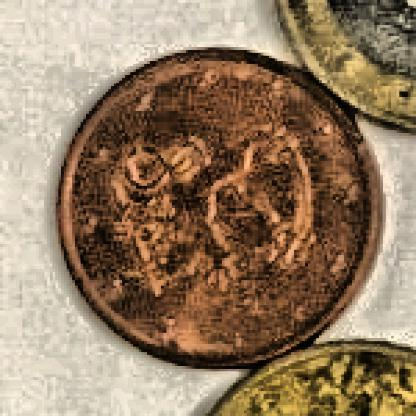coin: (60, 48, 382, 371)
